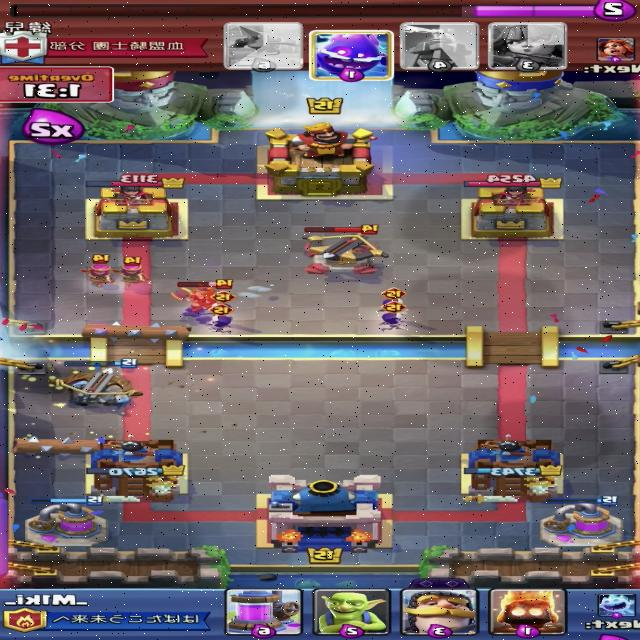Enemy-Archer: (74, 254, 122, 288), (112, 256, 153, 288)
Enemy-Log: (8, 435, 129, 458)
Enemy-Skeleton-Evo: (377, 300, 413, 332), (207, 303, 236, 335), (379, 287, 410, 316), (207, 290, 237, 319)
Enemy-Valkyrie: (168, 279, 234, 315)
Enemy-XBow: (298, 224, 389, 276)
Player-ElixirPump: (535, 496, 625, 548), (22, 495, 108, 549)
Player-XBow: (46, 358, 140, 407)
